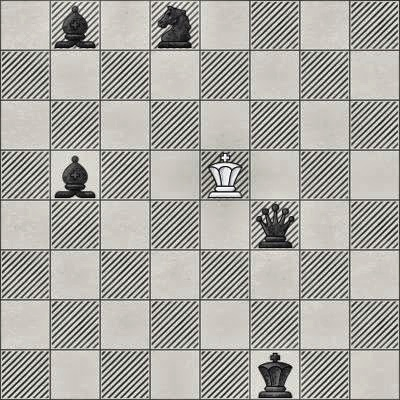black-bishop: (50, 0, 100, 50), (50, 150, 100, 200)
black-king: (250, 350, 300, 400)
black-knight: (150, 0, 200, 50)
black-queen: (250, 200, 300, 250)
white-king: (200, 150, 250, 200)
